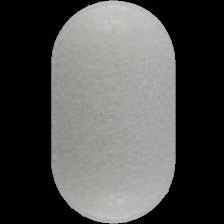0615-8013: (0, 0, 224, 224)
